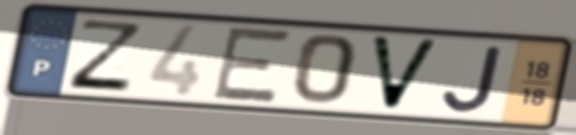0: (288, 32, 361, 108)
4: (144, 21, 205, 100)
E: (208, 24, 296, 106)
J: (440, 43, 507, 115)
V: (366, 32, 444, 114)
Z: (64, 17, 147, 95)
